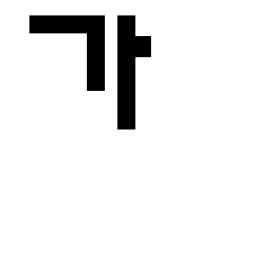Gaji: (111, 30, 147, 69)
